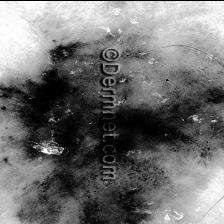Potentially Malignant Skin Tumors: (0, 49, 92, 168)
